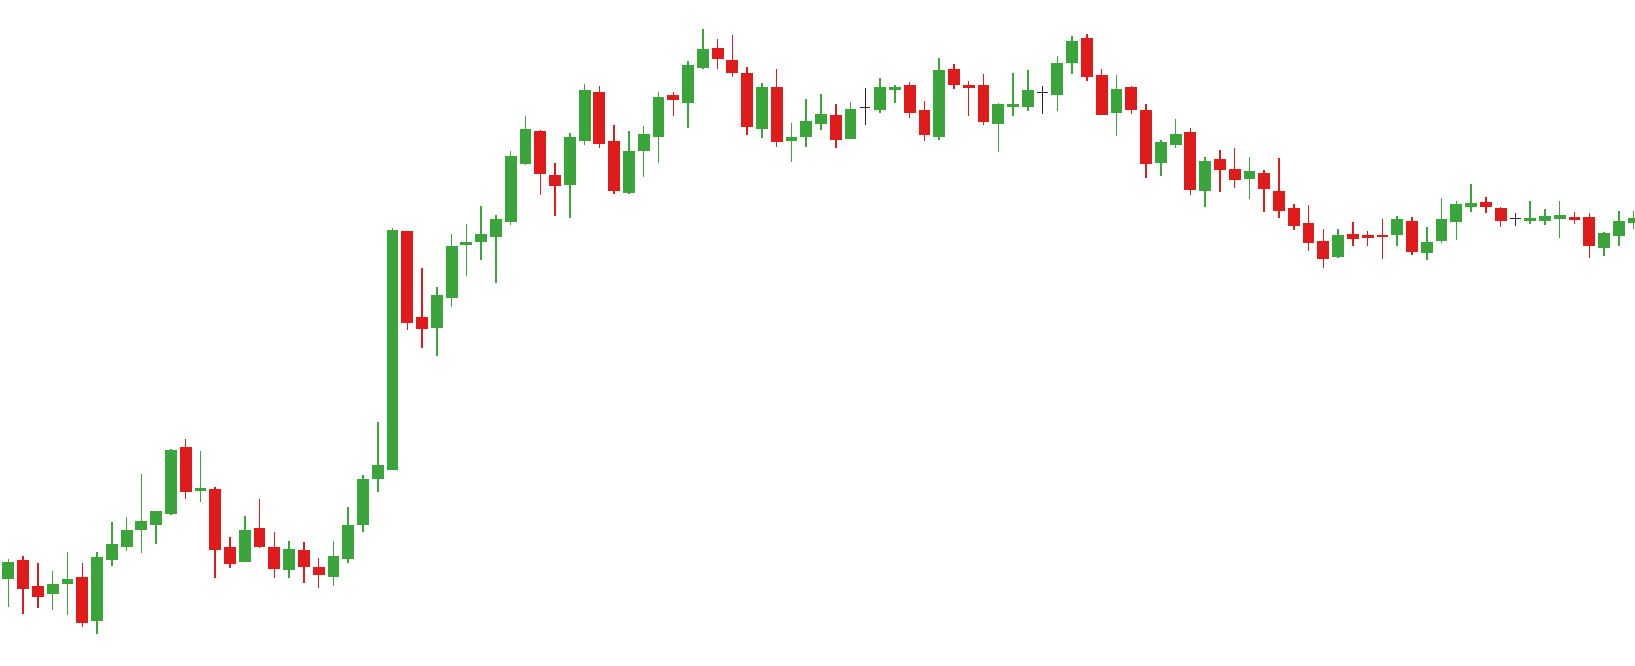sell: (932, 31, 1096, 103)
